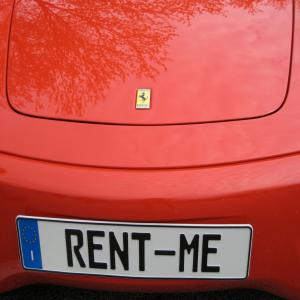Vehicle-registration-plate: (16, 216, 254, 282)
